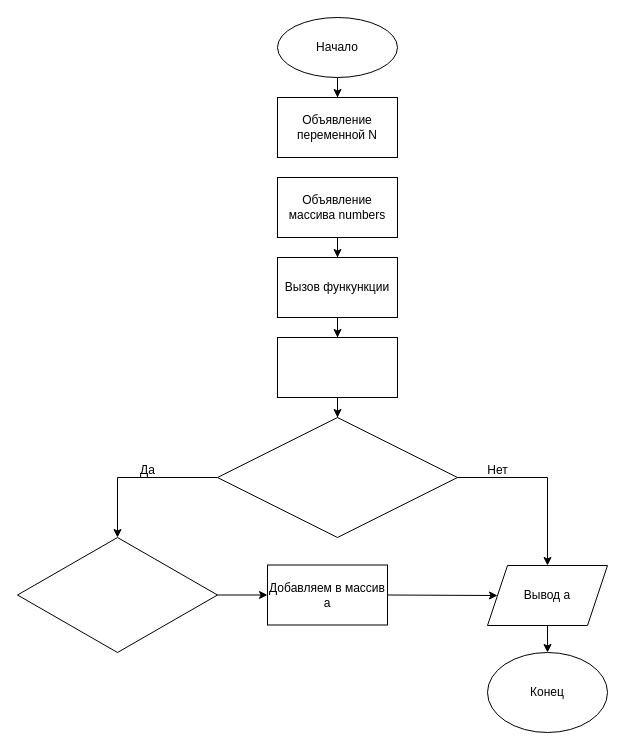
Some shapes in this 625 by 750 pixel diagram are drawn without their labels. Each missing label, with the centre of its shape:
"for(Проходим по массиву чисел)" belongs at (337,477).
"Объявление массива a" belongs at (337,367).
"Пока элемент не равен следующему" belongs at (117,594).
